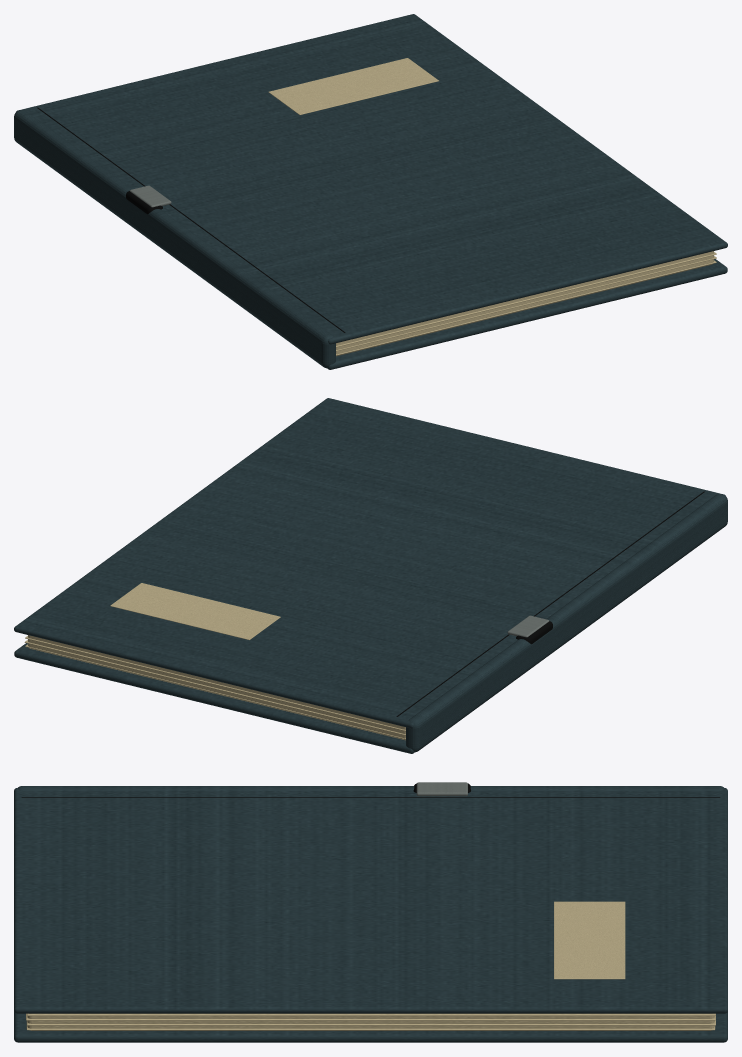
File: DocumentFolder.glb
3 renders of one model, top to bottom at view 1: azimuth 30°, elevation 25°; view 2: azimuth 150°, elevation 25°; view 3: azimuth 270°, elevation 25°, orthographic. The views are drawn at different scales.
Visible parts, largest first — view 1: DocumentFolder; view 2: DocumentFolder; view 3: DocumentFolder.
Boxes of the visible parts, x1=… form: DocumentFolder: x1=14, y1=14, x2=727, y2=369; DocumentFolder: x1=14, y1=398, x2=727, y2=753; DocumentFolder: x1=14, y1=782, x2=727, y2=1042.
Size of the model in its own units: 0.2371 by 0.02 by 0.32.
Materials: 1 (1 with a texture image).
